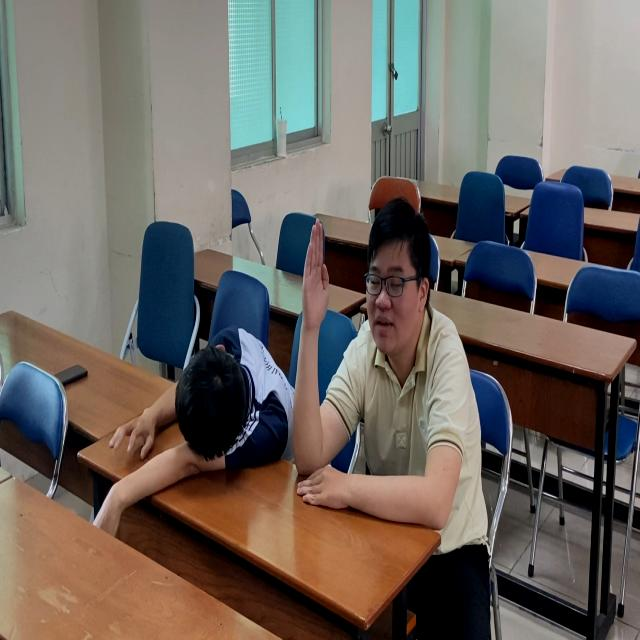raise_hand: (296, 202, 485, 529)
sleep: (98, 324, 297, 521)
